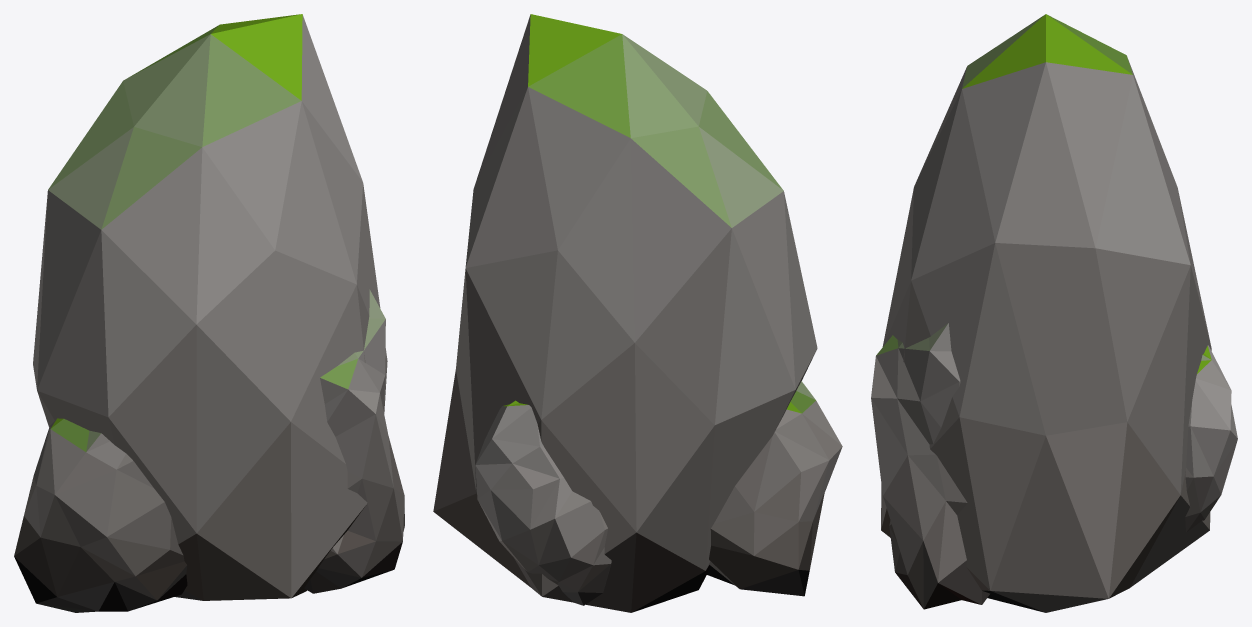
The model's file is batu_boulder_limestone_275488.glb.
3 views of the same model, side by side, from view 1: azimuth 30°, elevation 25°; view 2: azimuth 150°, elevation 25°; view 3: azimuth 270°, elevation 25° (orthographic). The views are drawn at different scales.
Parts seen in each view (by area): view 1: Batu_Jeram_Sungai; view 2: Batu_Jeram_Sungai; view 3: Batu_Jeram_Sungai.
Boxes of the visible parts, x1=… form: Batu_Jeram_Sungai: x1=14, y1=14, x2=404, y2=612; Batu_Jeram_Sungai: x1=433, y1=14, x2=842, y2=612; Batu_Jeram_Sungai: x1=871, y1=14, x2=1237, y2=612.
Size of the model in its own units: 3.47 by 5.24 by 3.09.
